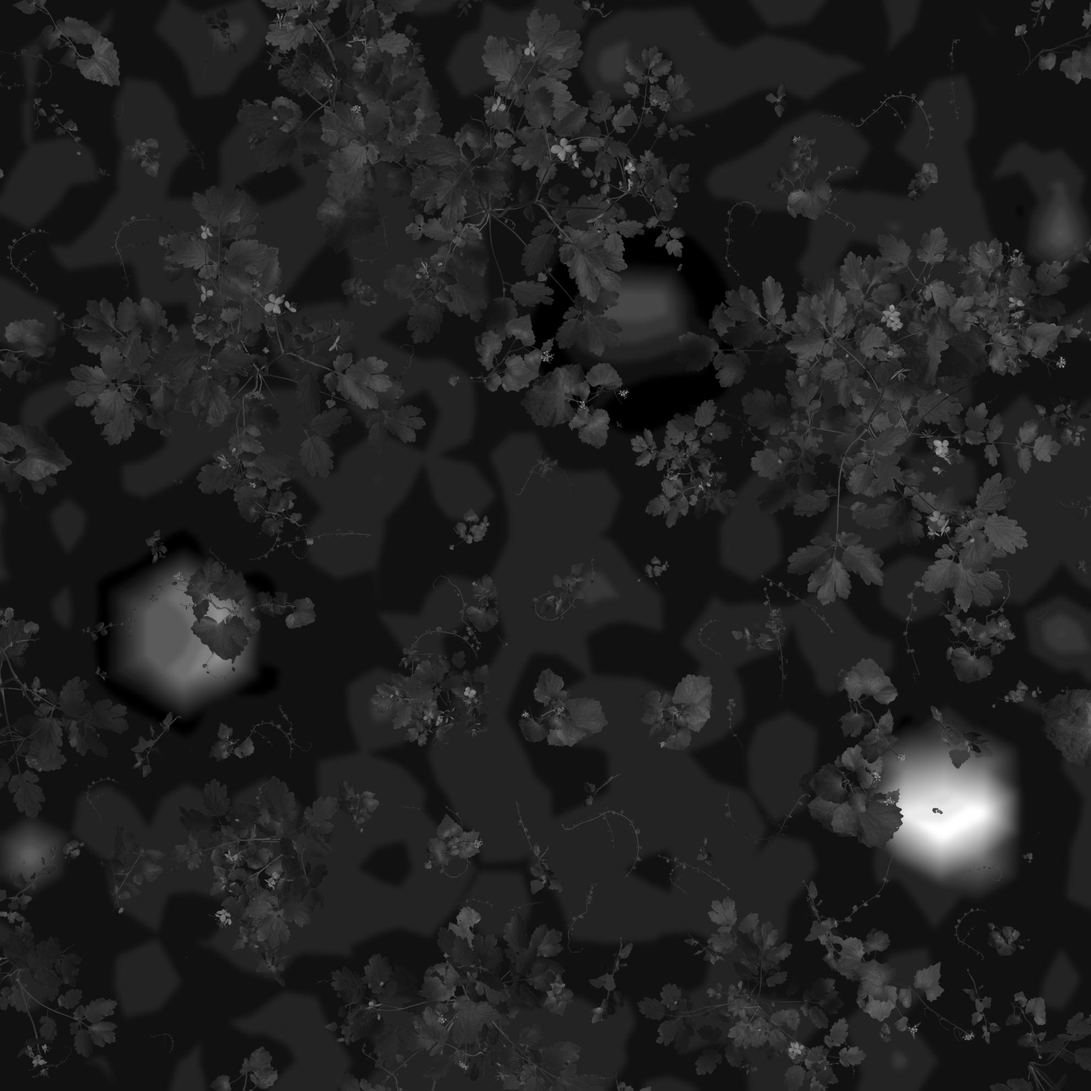landmine: (108, 539, 273, 714), (868, 729, 1031, 885), (562, 250, 698, 382)
